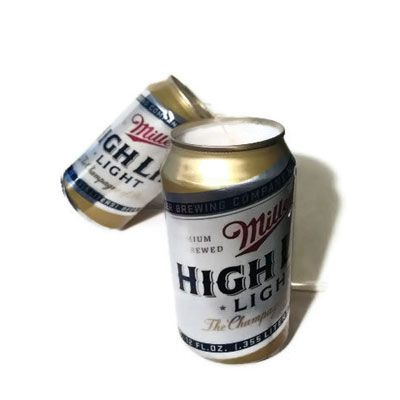beer can: (166, 117, 292, 364), (60, 75, 215, 231)
